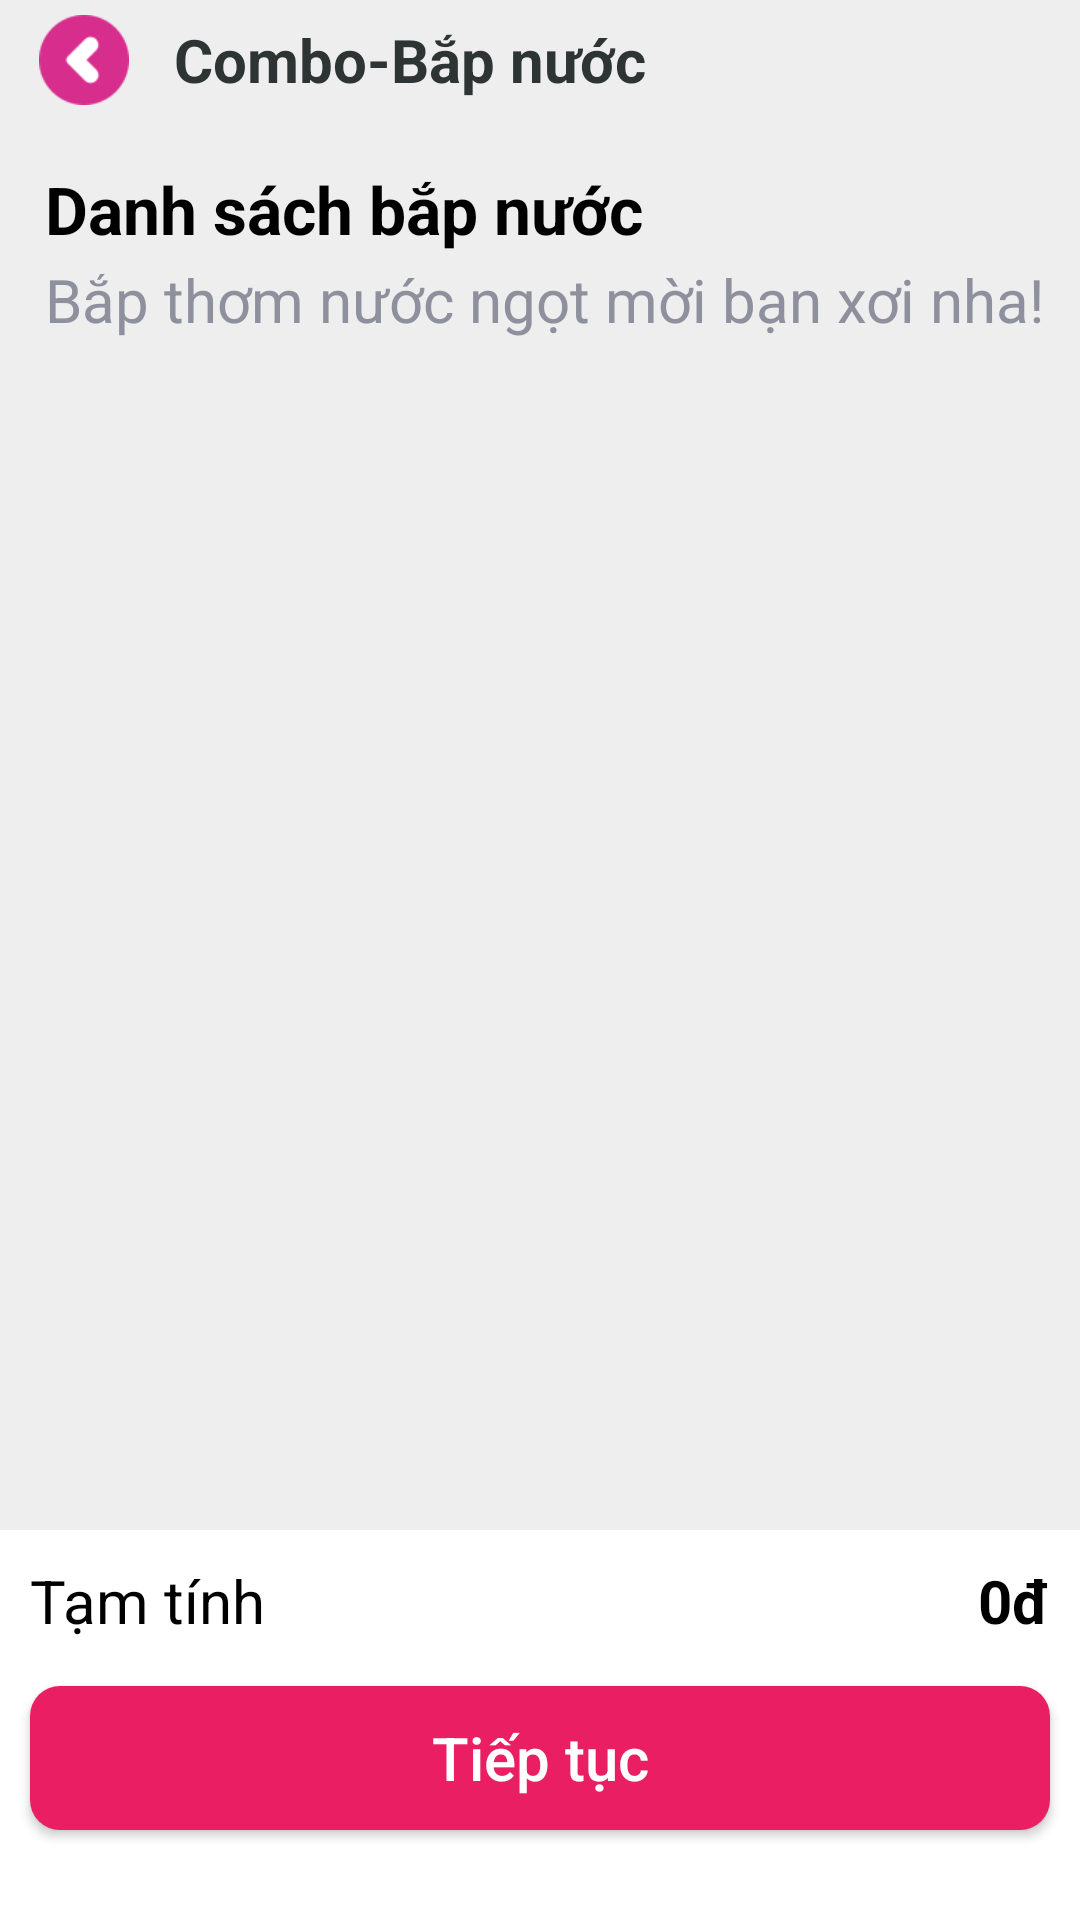

Screen size 1080px x 1920px. Icon name, then its center in pixels as (x,y):
back: (84,60)
